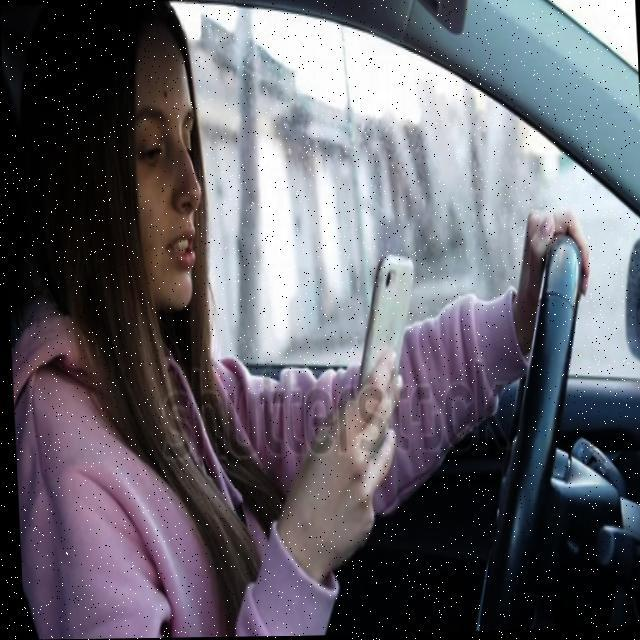PhoneCall: (349, 250, 420, 446)
